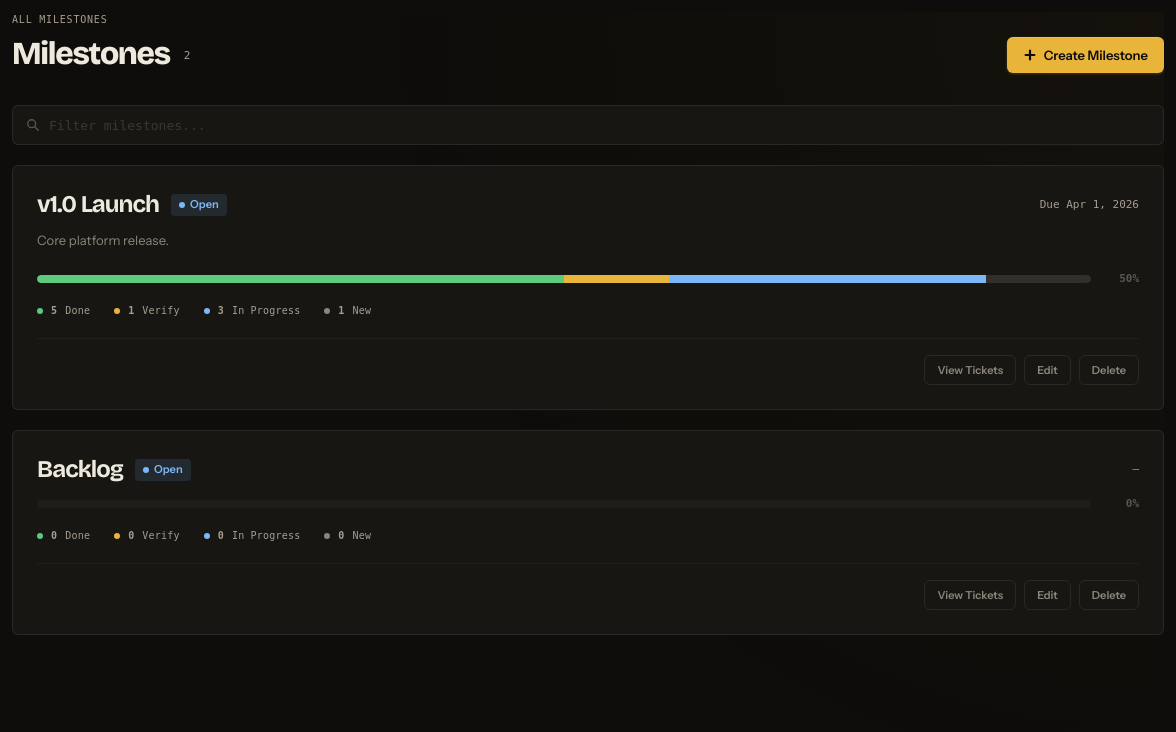
Test: MilestoneListPage › filters milestones by name
Expected: the text "v1.0 Launch" is shown, [37,190,159,219]
In the field with placeholder "Filter milestones...": (588, 125) [12,105,1164,145], type "Backlog"
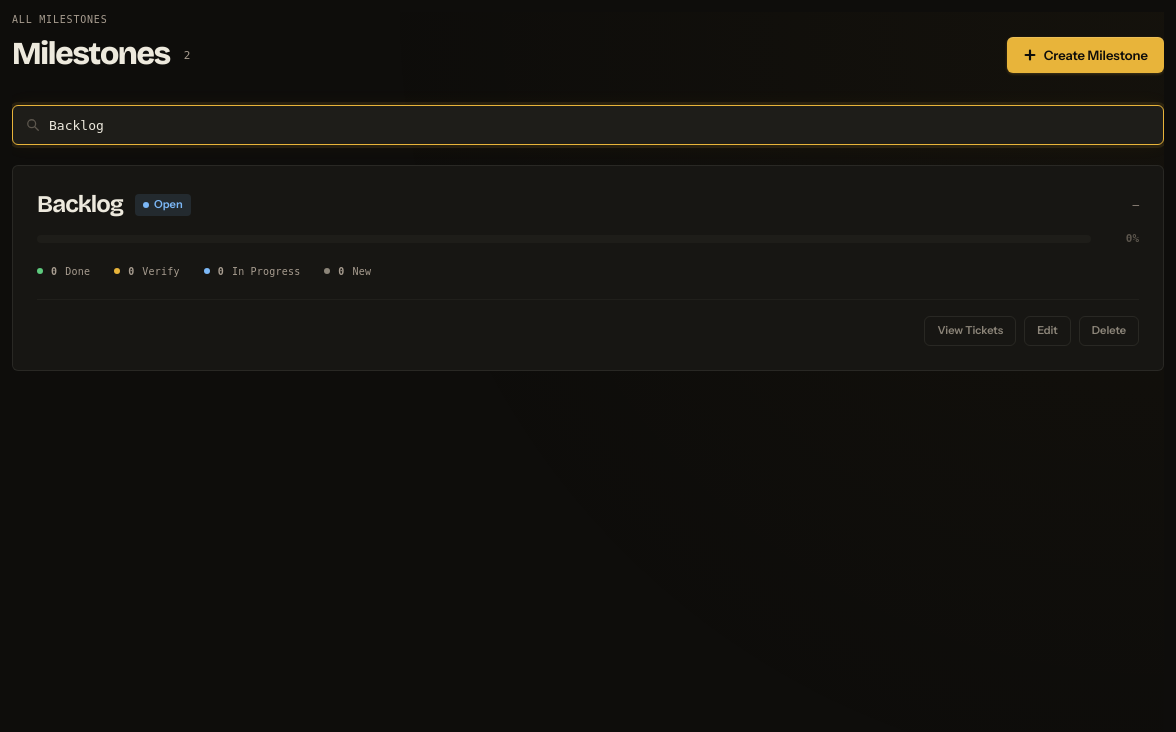
Expected: the text "Backlog" is shown, [37,190,123,219]
Now the text "v1.0 Launch" is gone
